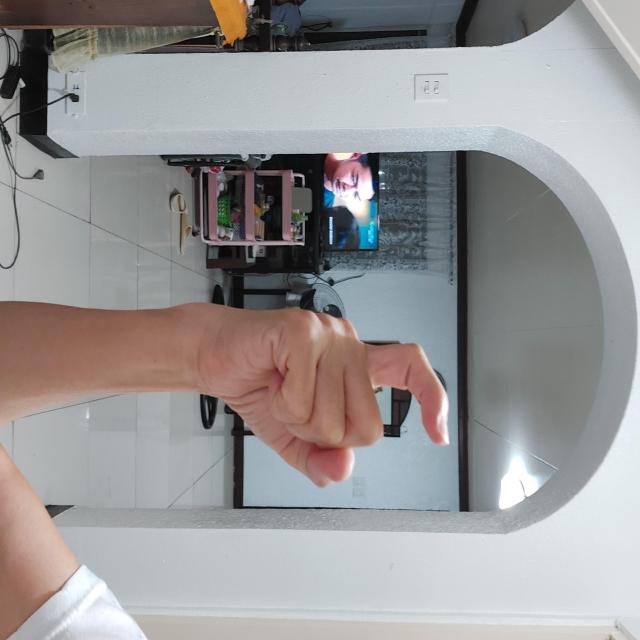X: (304, 190, 489, 438)
